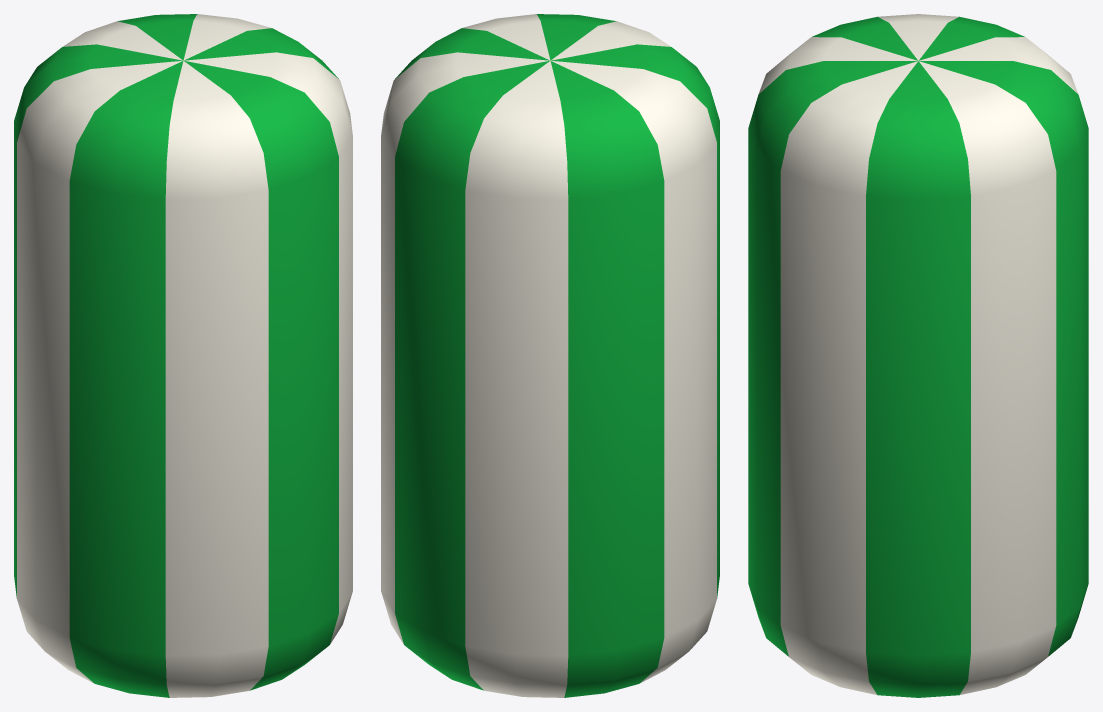
File: stripe_candy_01.fbx
3 views of the same model, side by side, from view 1: azimuth 30°, elevation 25°; view 2: azimuth 150°, elevation 25°; view 3: azimuth 270°, elevation 25° (orthographic).
Visible parts, largest first — view 1: stripe_candy_01; view 2: stripe_candy_01; view 3: stripe_candy_01.
Part boxes in pixels (x1,y1,x2,y2): stripe_candy_01: [14, 14, 352, 697]; stripe_candy_01: [381, 14, 719, 697]; stripe_candy_01: [748, 14, 1088, 697].
Size of the model in its own units: 0.3447 by 0.6591 by 0.3447.
